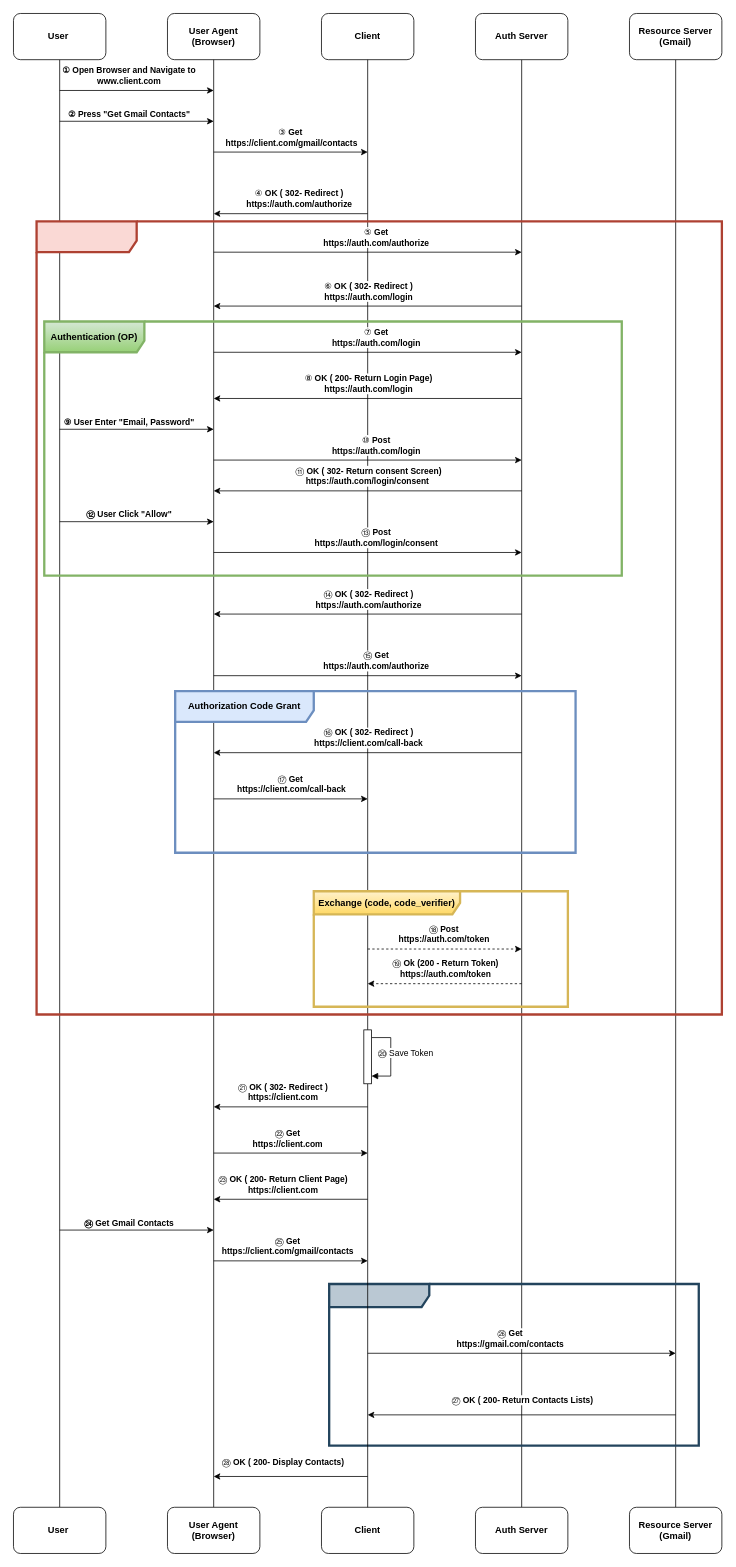
Image size: 736x1567. Some labels were removed from this diagram. The shapes that lost their labels are listed below. From the top down, each one's box as (x1, y1, x2, y2) in pixels, then its label:
(35, 220, 723, 1015): OAuth Code Flow
(328, 1282, 700, 1446): Using The Token
